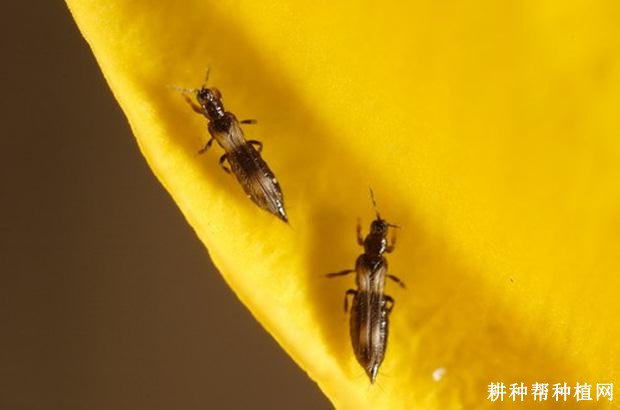Phlaeothripidae: (166, 66, 295, 232), (324, 182, 406, 392)
